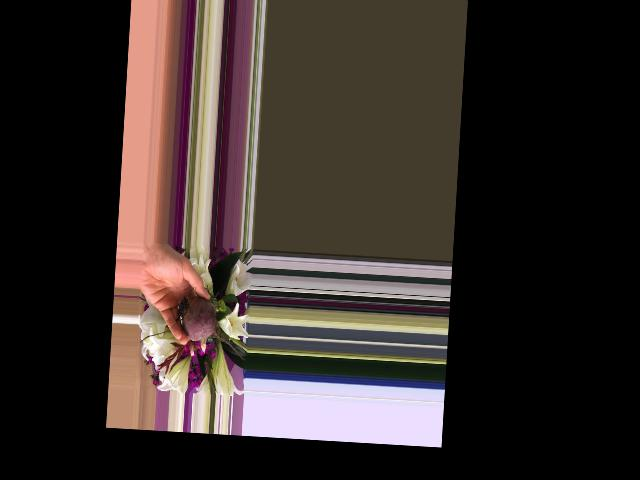beet: (174, 295, 247, 361)
